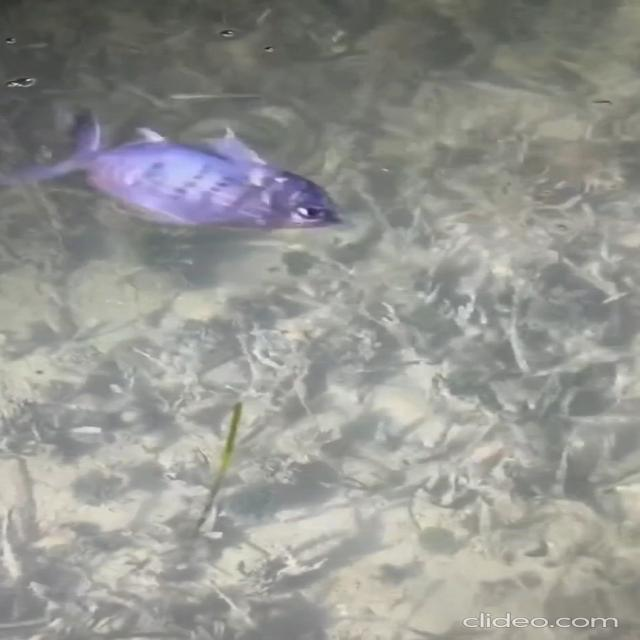fish: (19, 105, 384, 237)
